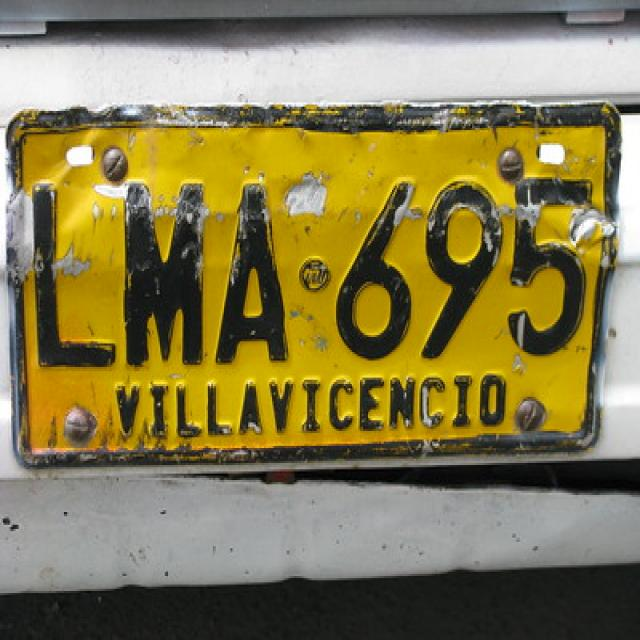placa_carro: (4, 99, 619, 484)
